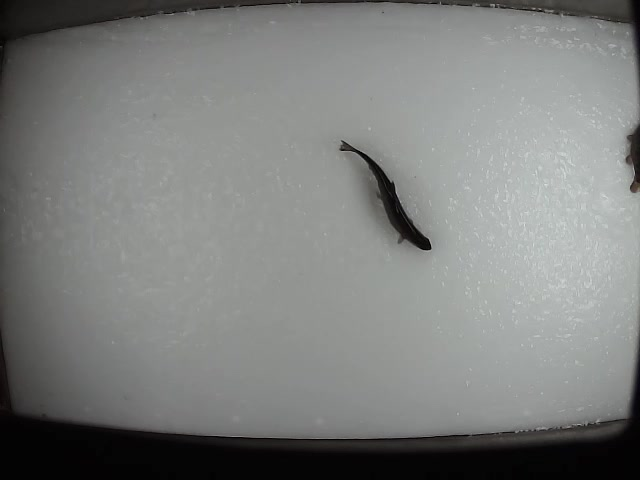Fish: (340, 140, 432, 250)
